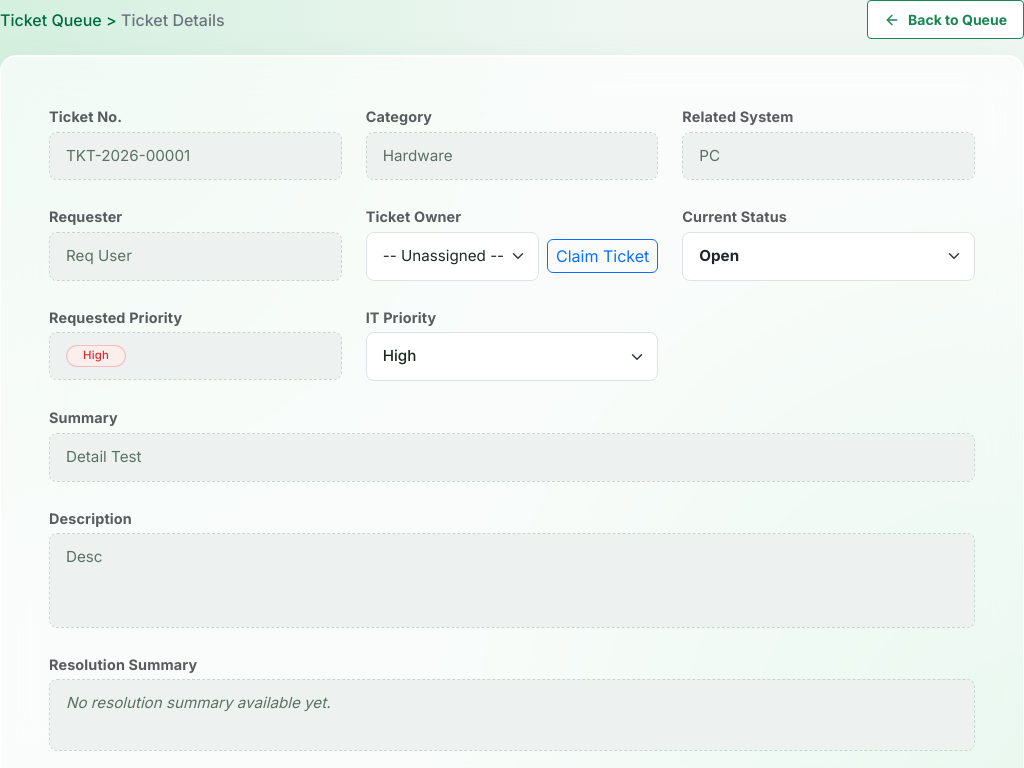
TicketDetail for IT Staff › shows confirmation modal for terminal status
Expected: the field showing "TKT-2026-00001" below "Ticket No." is shown, [49,132,342,180]
Select "Resolved" in the dropdown below "Current Status": {"x": 829, "y": 256} [682,232,975,281]
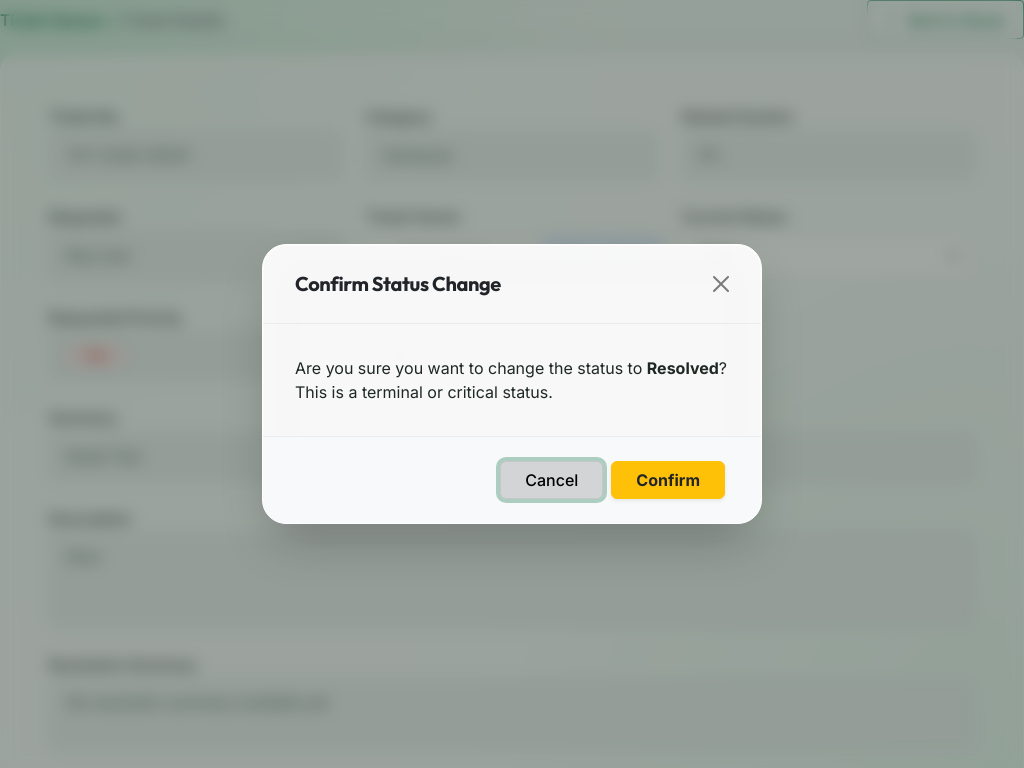
Now the heading "Confirm Status Change" is shown, box [295,269,501,299]
Now the text "Are you sure you want to change the status to" is shown, box [295,358,647,378]
